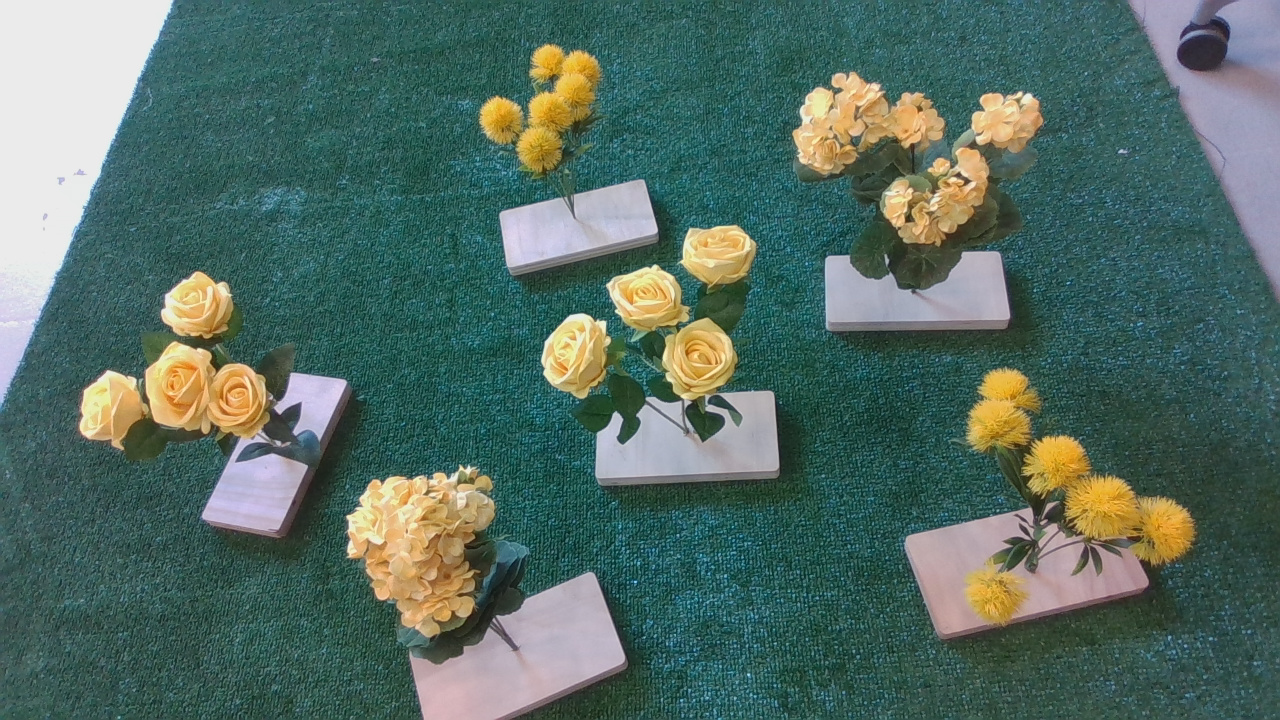dandelion: (962, 370, 1207, 639), (478, 42, 621, 182)
geranium: (793, 71, 1061, 301), (345, 463, 544, 672)
rose: (78, 266, 368, 463), (543, 225, 772, 423)
